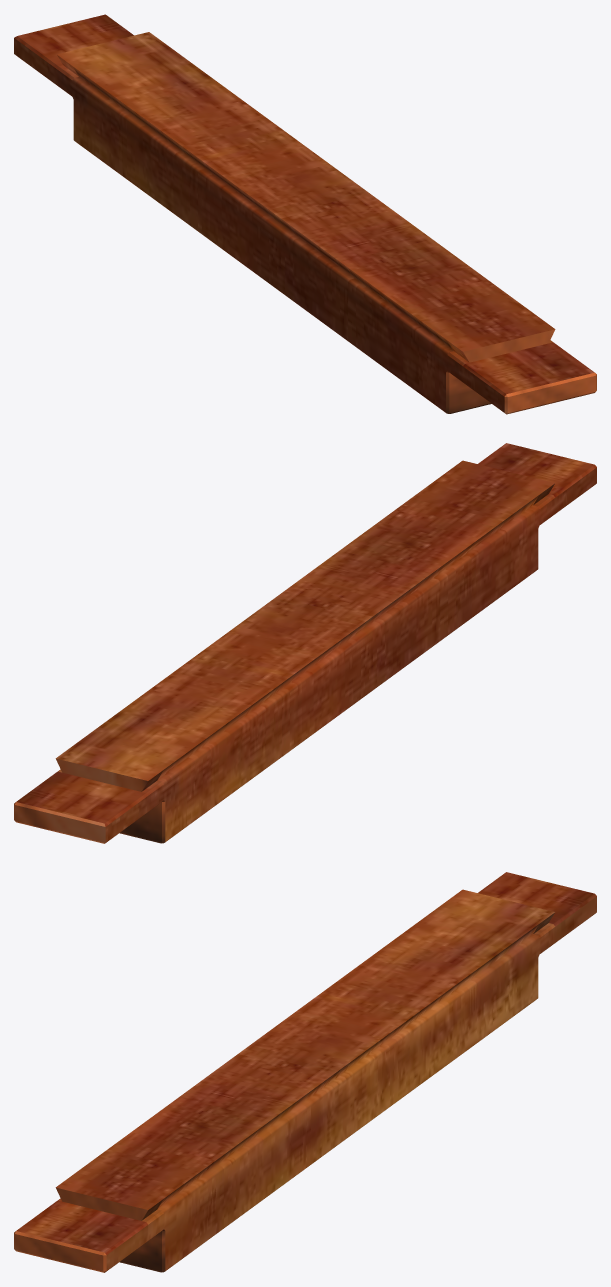
Rendered from ytsy_J_chuandai_1.FBX.
3 views of the same model, one above another, from view 1: azimuth 30°, elevation 25°; view 2: azimuth 150°, elevation 25°; view 3: azimuth 330°, elevation 25° (orthographic).
Visible parts, largest first — view 1: ytsy_J_chuandai_1; view 2: ytsy_J_chuandai_1; view 3: ytsy_J_chuandai_1.
Part boxes in pixels (bbox=[...]): ytsy_J_chuandai_1: bbox=[14, 14, 596, 414]; ytsy_J_chuandai_1: bbox=[14, 443, 596, 843]; ytsy_J_chuandai_1: bbox=[14, 872, 596, 1272].
Size of the model in its own units: 3.2 by 2.5 by 29.47.
